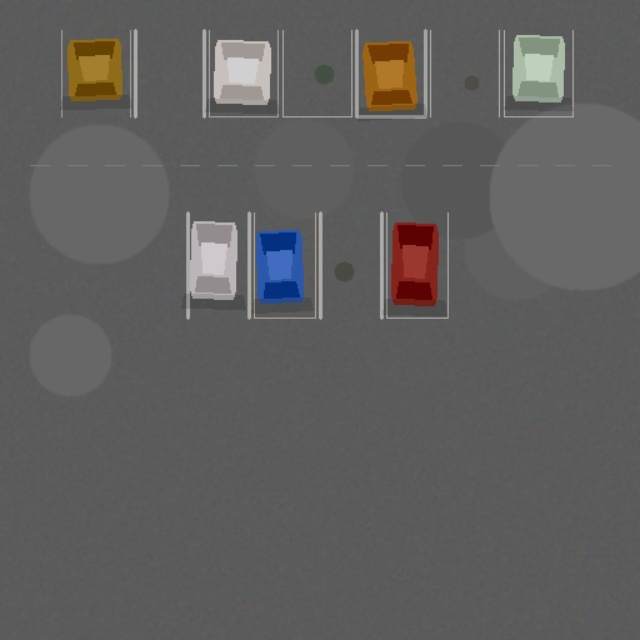space-empty: (320, 212, 381, 317), (135, 30, 204, 116), (282, 30, 351, 116), (430, 30, 499, 116)
space-occupied: (187, 212, 249, 317), (254, 212, 315, 317), (386, 212, 447, 317), (61, 30, 130, 116), (209, 30, 278, 116), (356, 30, 425, 116), (504, 30, 572, 116)
